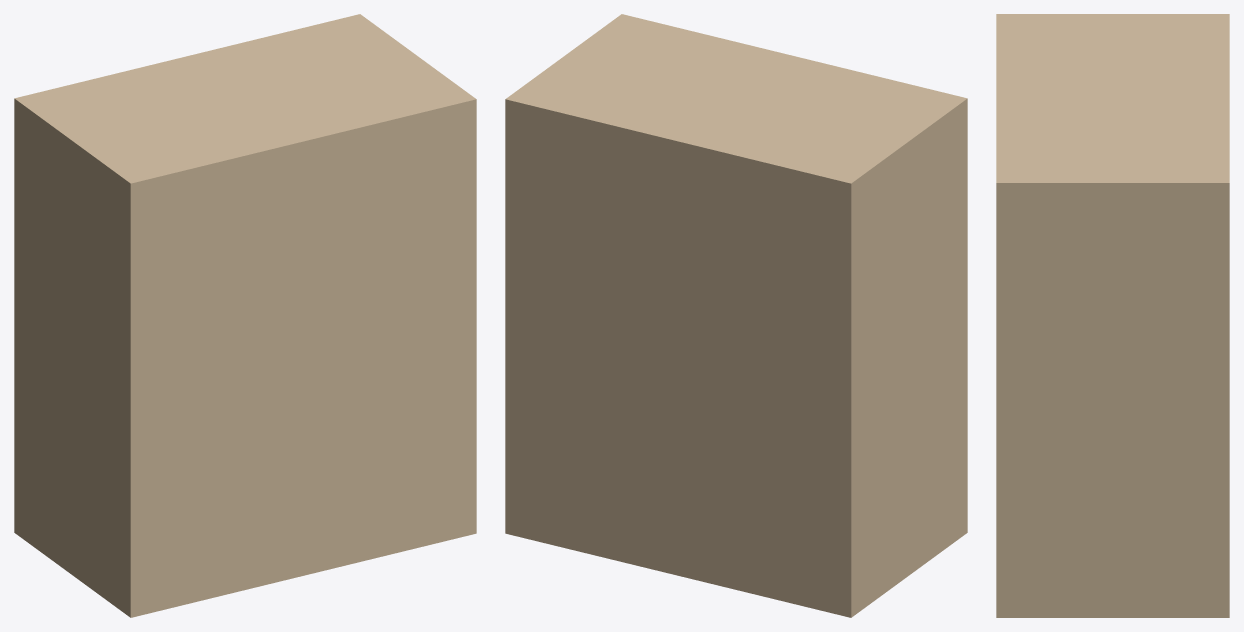
3 renders of one model, left to right at view 1: azimuth 30°, elevation 25°; view 2: azimuth 150°, elevation 25°; view 3: azimuth 270°, elevation 25°, orthographic.
Parts seen in each view (by area): view 1: carcass; view 2: carcass; view 3: carcass.
Boxes of the visible parts, left/top/right/bottom form: carcass: left=14, top=14, right=476, bottom=617; carcass: left=505, top=14, right=967, bottom=617; carcass: left=996, top=14, right=1229, bottom=617.
Bounding box in the file's own units: 0.6 × 0.72 × 0.35.
